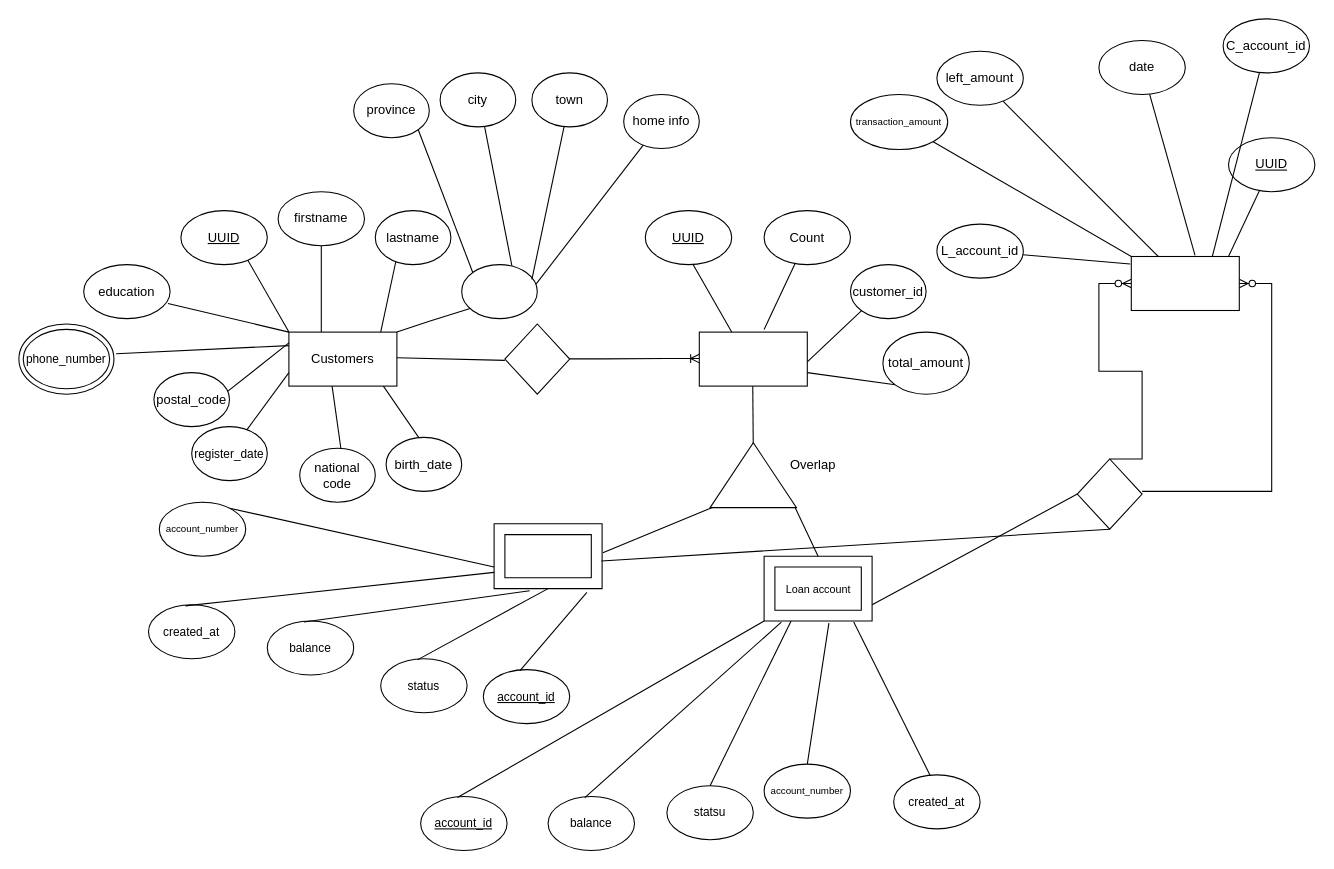
This 1334x869 diagram has some shape labels left out. The shapes that lost their labels are listed below. From the top down, each one's centre as x and y in pixels, then its label:
the point at 499,291: home address
the point at 1184,282: Transactios
the point at 537,358: have
the point at 752,358: accouts
the point at 752,475: ISA
the point at 1109,493: has
the point at 547,556: current_account
